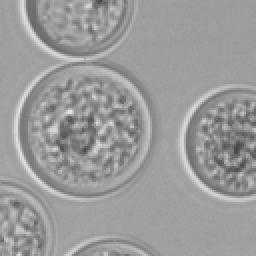picoshell: (14, 64, 155, 204), (178, 81, 256, 204), (18, 0, 140, 60), (0, 178, 56, 256), (64, 233, 159, 256)
